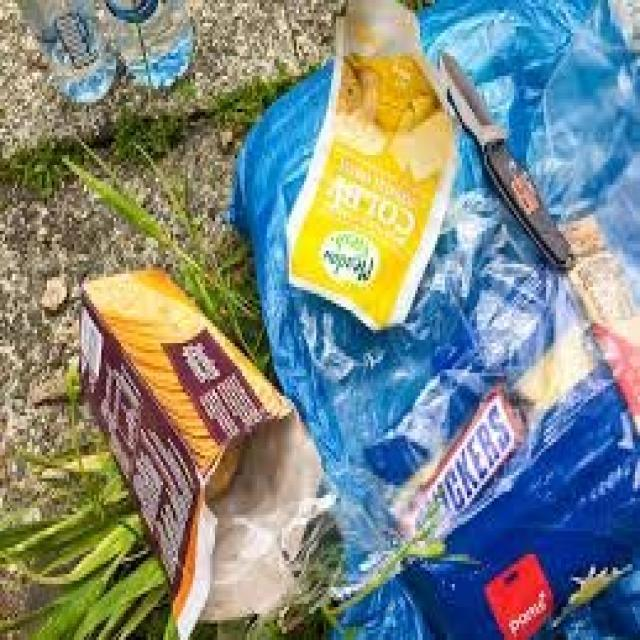clothes: (438, 33, 584, 274)
leaf: (15, 2, 116, 108)
metal: (396, 378, 536, 546), (561, 178, 640, 472)
trash: (56, 233, 322, 632), (284, 0, 460, 340), (112, 0, 196, 99)
